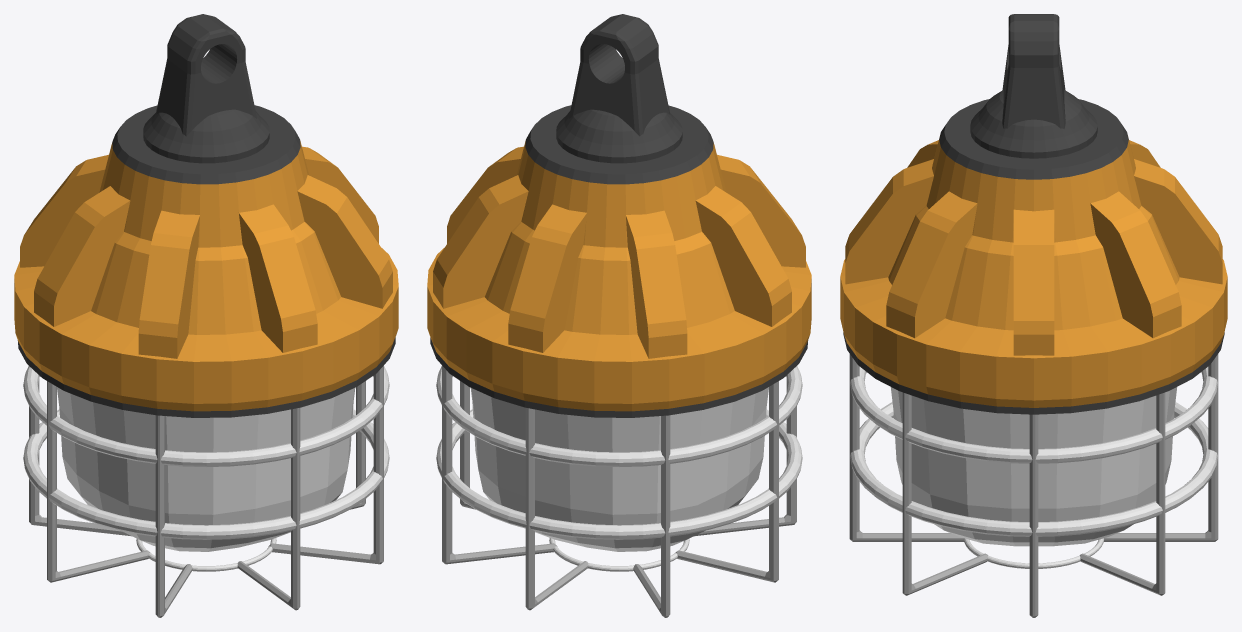
The model's file is ConstructionSiteLight.fbx.
The picture shows the model from 3 angles, left to right: view 1: azimuth 30°, elevation 25°; view 2: azimuth 150°, elevation 25°; view 3: azimuth 270°, elevation 25°; orthographic projection.
Visible parts, largest first — view 1: Cube, Torus.001, Torus, Cube.008, Cube.005, Cube.007, Cube.006, Cube.004, Cube.001, Torus.002; view 2: Cube, Torus.001, Torus, Cube.002, Cube.005, Cube.003, Cube.004, Cube.006, Cube.001, Torus.002; view 3: Cube, Torus.001, Torus, Cube.002, Cube.008, Cube.003, Cube.007, Cube.001, Torus.002.
Part boxes in pixels (left/top/right/bottom): Cube: left=14, top=14, right=398, bottom=551; Torus.001: left=23, top=409, right=389, bottom=539; Torus: left=23, top=366, right=389, bottom=466; Cube.008: left=268, top=365, right=383, bottom=564; Cube.005: left=47, top=381, right=150, bottom=582; Cube.007: left=237, top=408, right=300, bottom=610; Cube.006: left=155, top=415, right=192, bottom=617; Cube.004: left=29, top=378, right=131, bottom=536; Cube.001: left=350, top=381, right=365, bottom=509; Torus.002: left=136, top=538, right=276, bottom=571; Cube: left=427, top=14, right=811, bottom=551; Torus.001: left=436, top=409, right=802, bottom=539; Torus: left=436, top=366, right=802, bottom=466; Cube.002: left=442, top=365, right=557, bottom=564; Cube.005: left=675, top=381, right=778, bottom=582; Cube.003: left=525, top=408, right=588, bottom=610; Cube.004: left=633, top=415, right=670, bottom=617; Cube.006: left=694, top=378, right=796, bottom=536; Cube.001: left=460, top=381, right=475, bottom=509; Torus.002: left=549, top=538, right=689, bottom=571; Cube: left=840, top=14, right=1227, bottom=546; Torus.001: left=850, top=402, right=1217, bottom=536; Torus: left=850, top=367, right=1217, bottom=463; Cube.002: left=1079, top=392, right=1165, bottom=595; Cube.008: left=902, top=392, right=988, bottom=595; Cube.003: left=1104, top=354, right=1218, bottom=541; Cube.007: left=849, top=354, right=963, bottom=541; Cube.001: left=1029, top=414, right=1038, bottom=617; Torus.002: left=964, top=538, right=1103, bottom=568.
Size of the model in its own units: 2.61 by 3.89 by 2.61.
